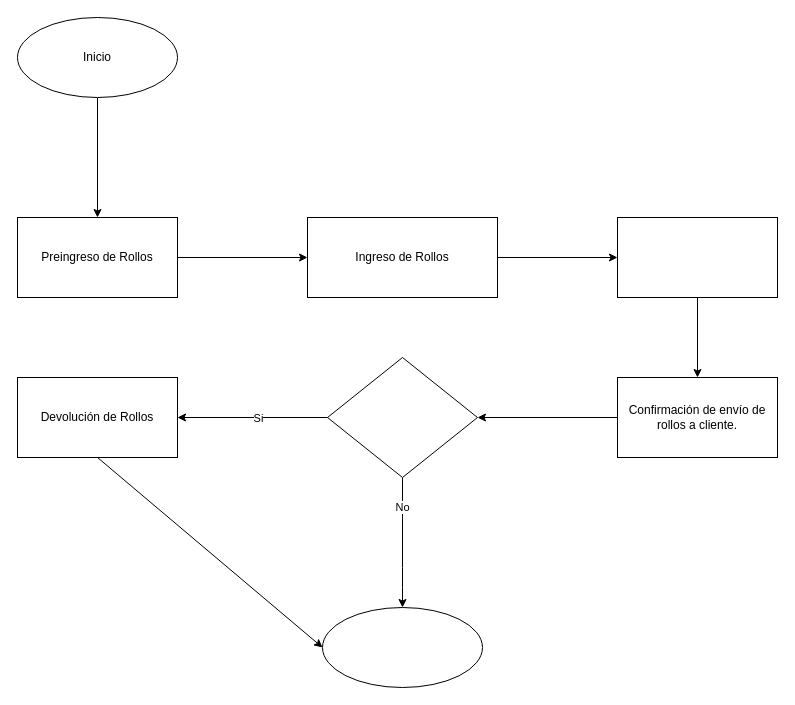
Some shapes in this 795 by 705 pixel diagram are drawn without their labels. The centre of each missing label's shape, as x and y in pixels:
Elección de Rollos para una factura: point 697,257
Fin: point 402,647
¿El cliente devolvió los rollos?: point 402,417
